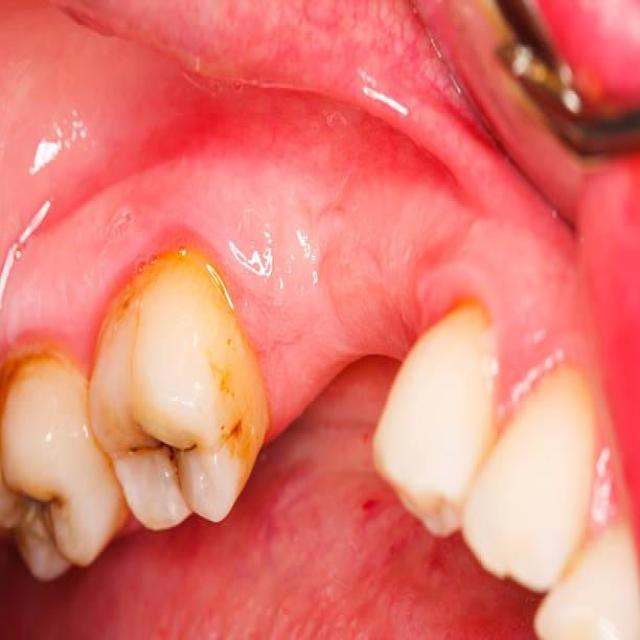caries: (114, 400, 196, 507), (16, 459, 87, 562)
